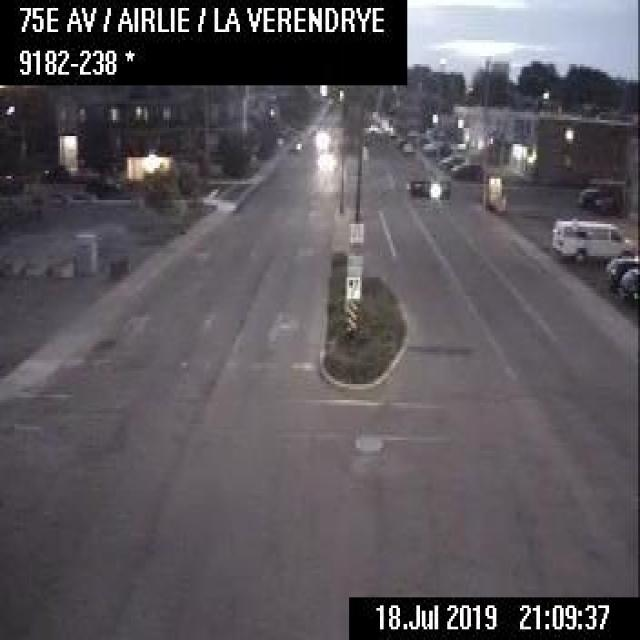vehicle: (552, 216, 637, 264), (603, 254, 638, 284), (619, 263, 638, 303), (448, 160, 484, 179), (438, 151, 466, 167), (316, 152, 334, 169), (285, 139, 301, 151), (400, 139, 414, 152)
